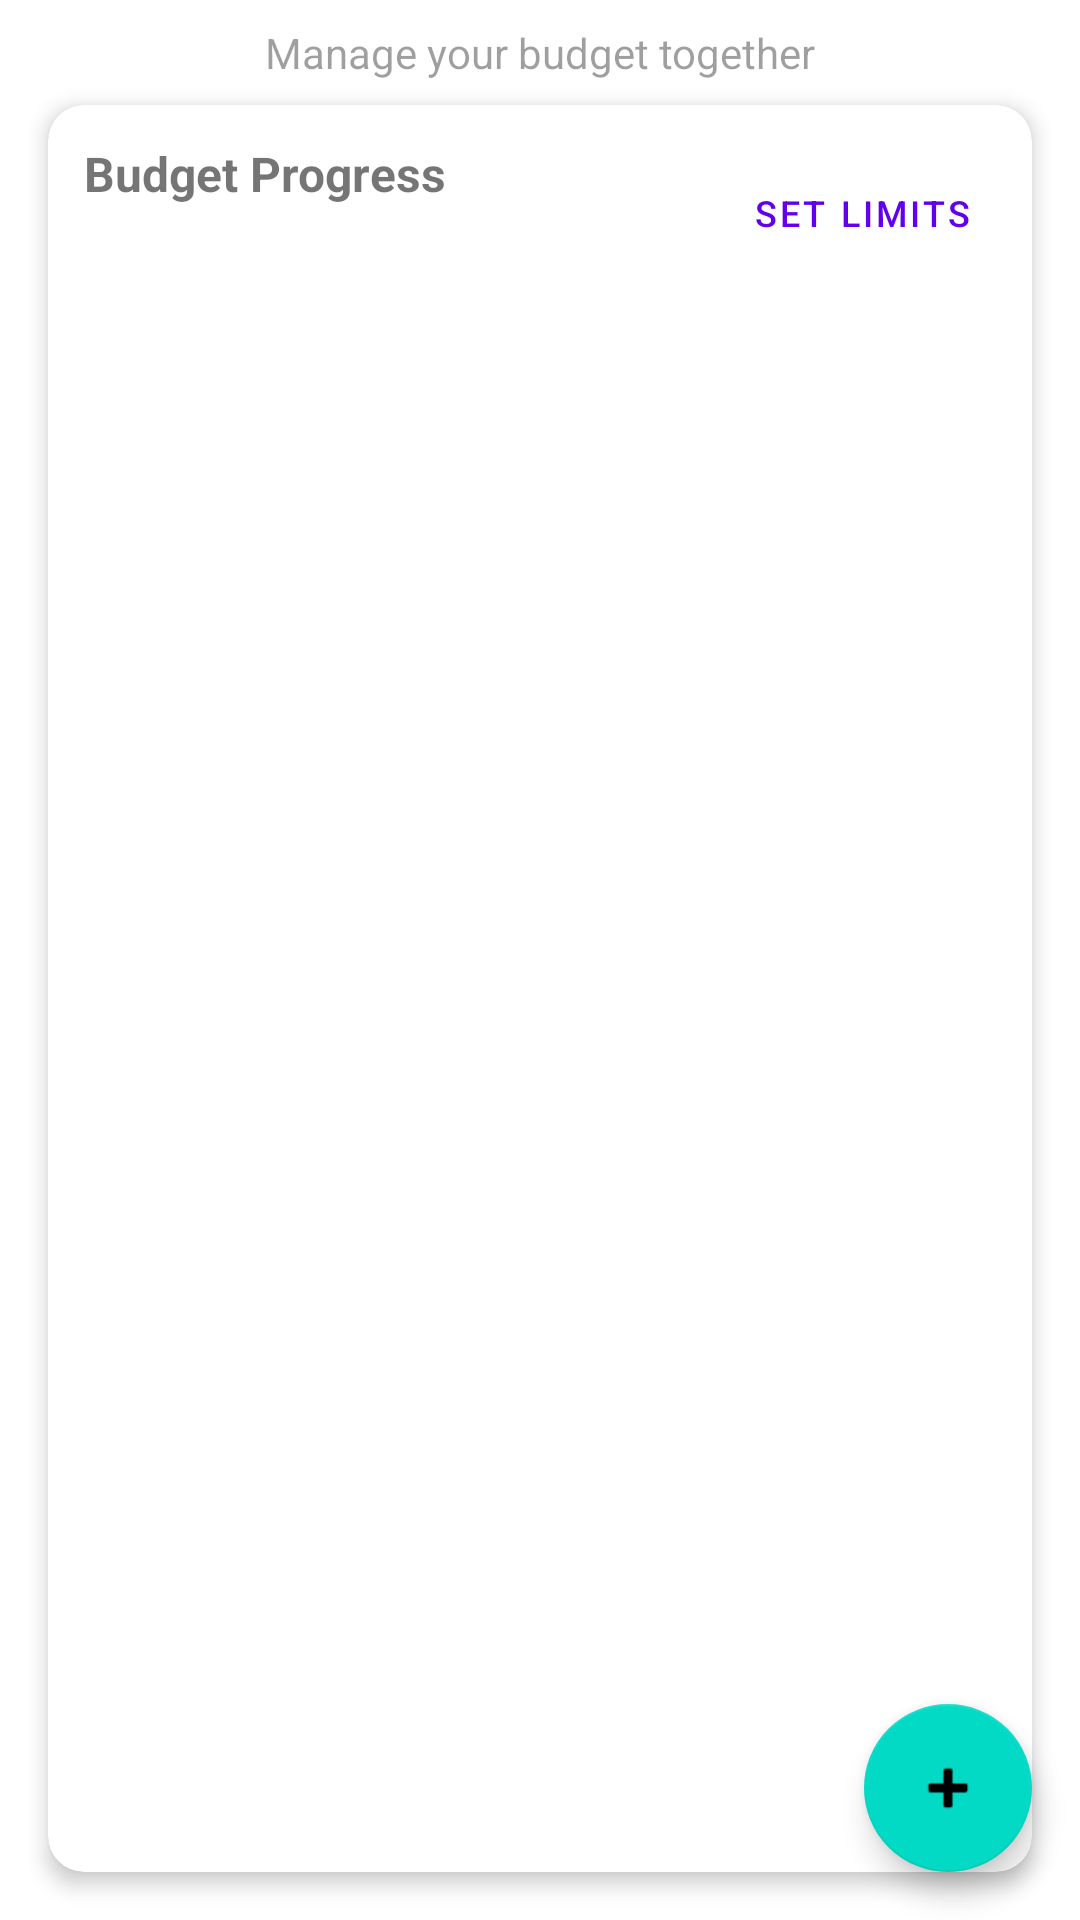

Screen size 1080 × 1920. Icon name, then its center in pixels as [x,y]:
Add Expense: [948,1788]
